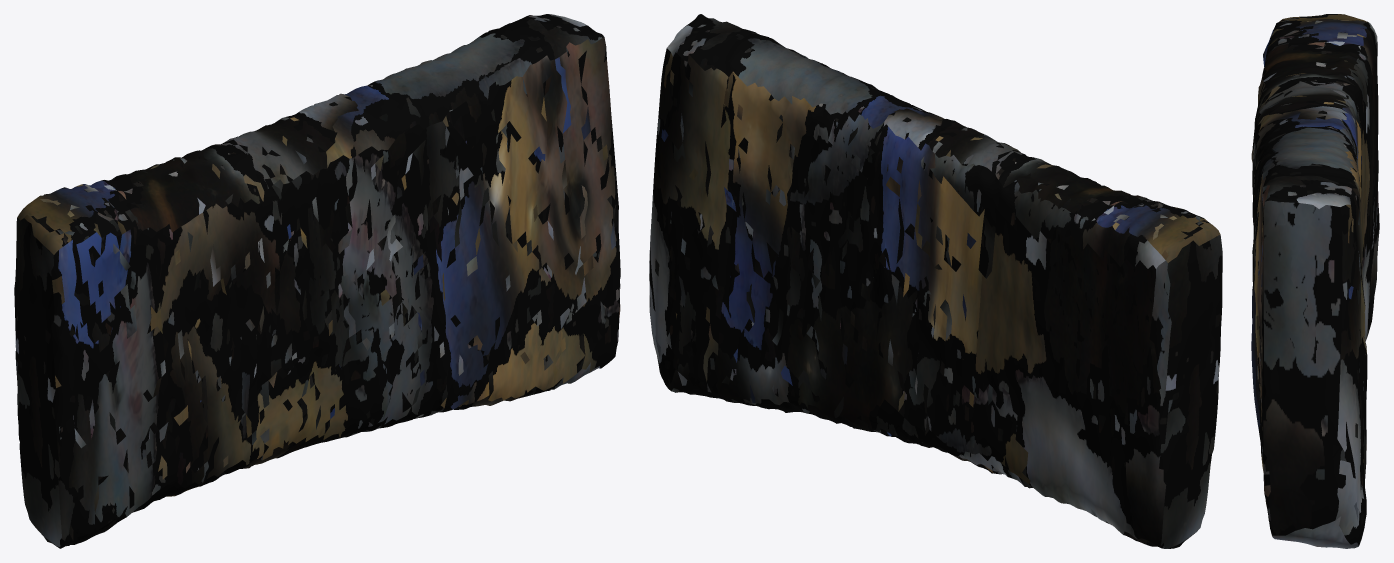
File: final_mesh_remote-black.obj
3 views of the same model, side by side, from view 1: azimuth 30°, elevation 25°; view 2: azimuth 150°, elevation 25°; view 3: azimuth 270°, elevation 25° (orthographic). The views are drawn at different scales.
Bounding box in the file's own units: 0.1632 × 0.1109 × 0.0319.
